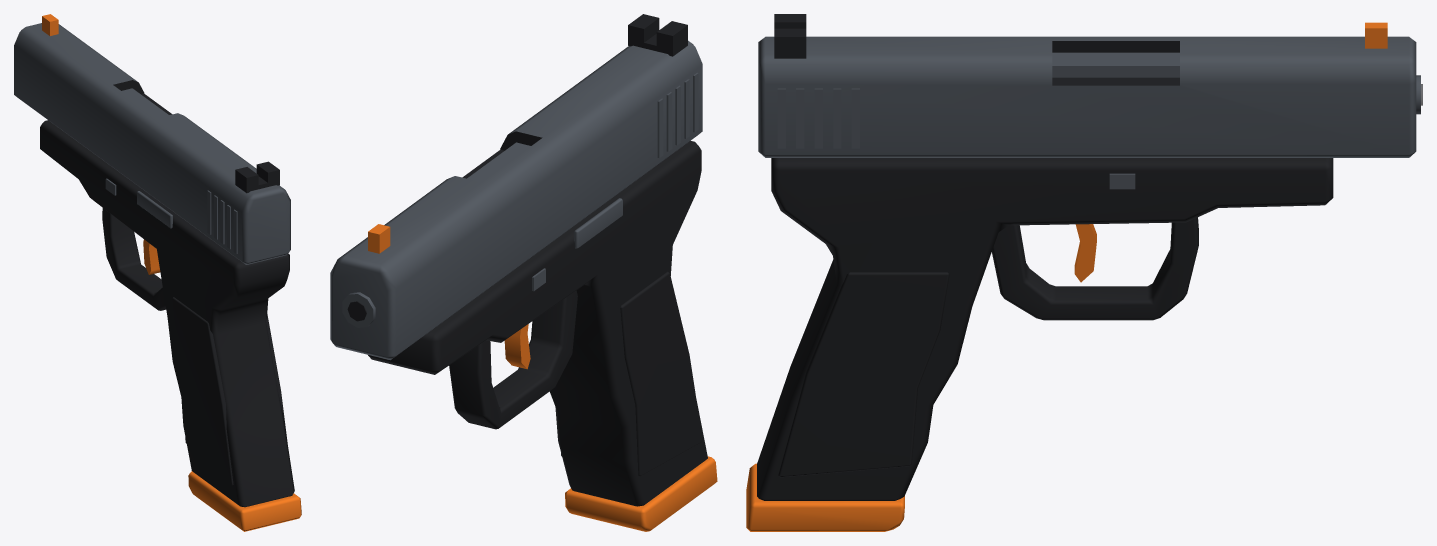
File: weapon_pistol.glb
3 views of the same model, side by side, from view 1: azimuth 30°, elevation 25°; view 2: azimuth 150°, elevation 25°; view 3: azimuth 270°, elevation 25° (orthographic). The views are drawn at different scales.
Visible parts, largest first — view 1: Weapon_Pistol; view 2: Weapon_Pistol; view 3: Weapon_Pistol.
Boxes of the visible parts, <box> form: Weapon_Pistol: <box>14,14,301,531</box>; Weapon_Pistol: <box>330,14,717,531</box>; Weapon_Pistol: <box>746,14,1422,531</box>.
Bounding box in the file's own units: 0.0313 × 0.1685 × 0.2118.
